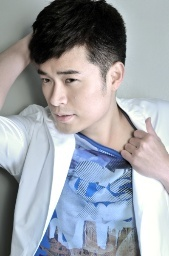noWear: (35, 46, 124, 133)
